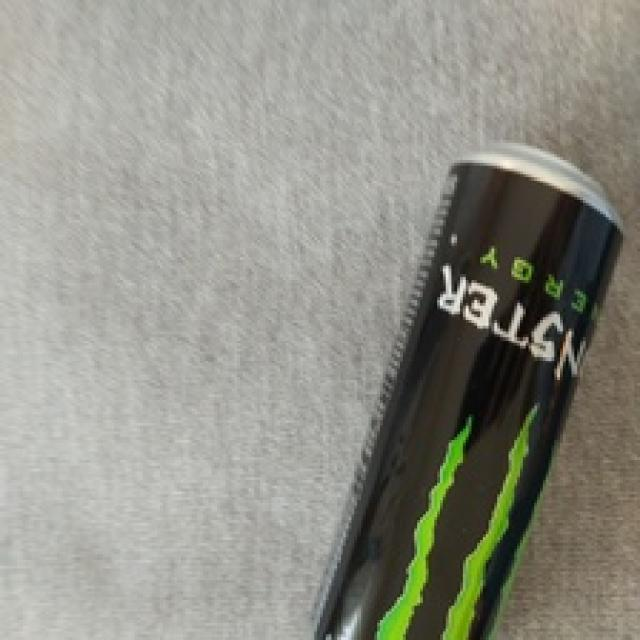recyclable: (306, 141, 625, 640)
